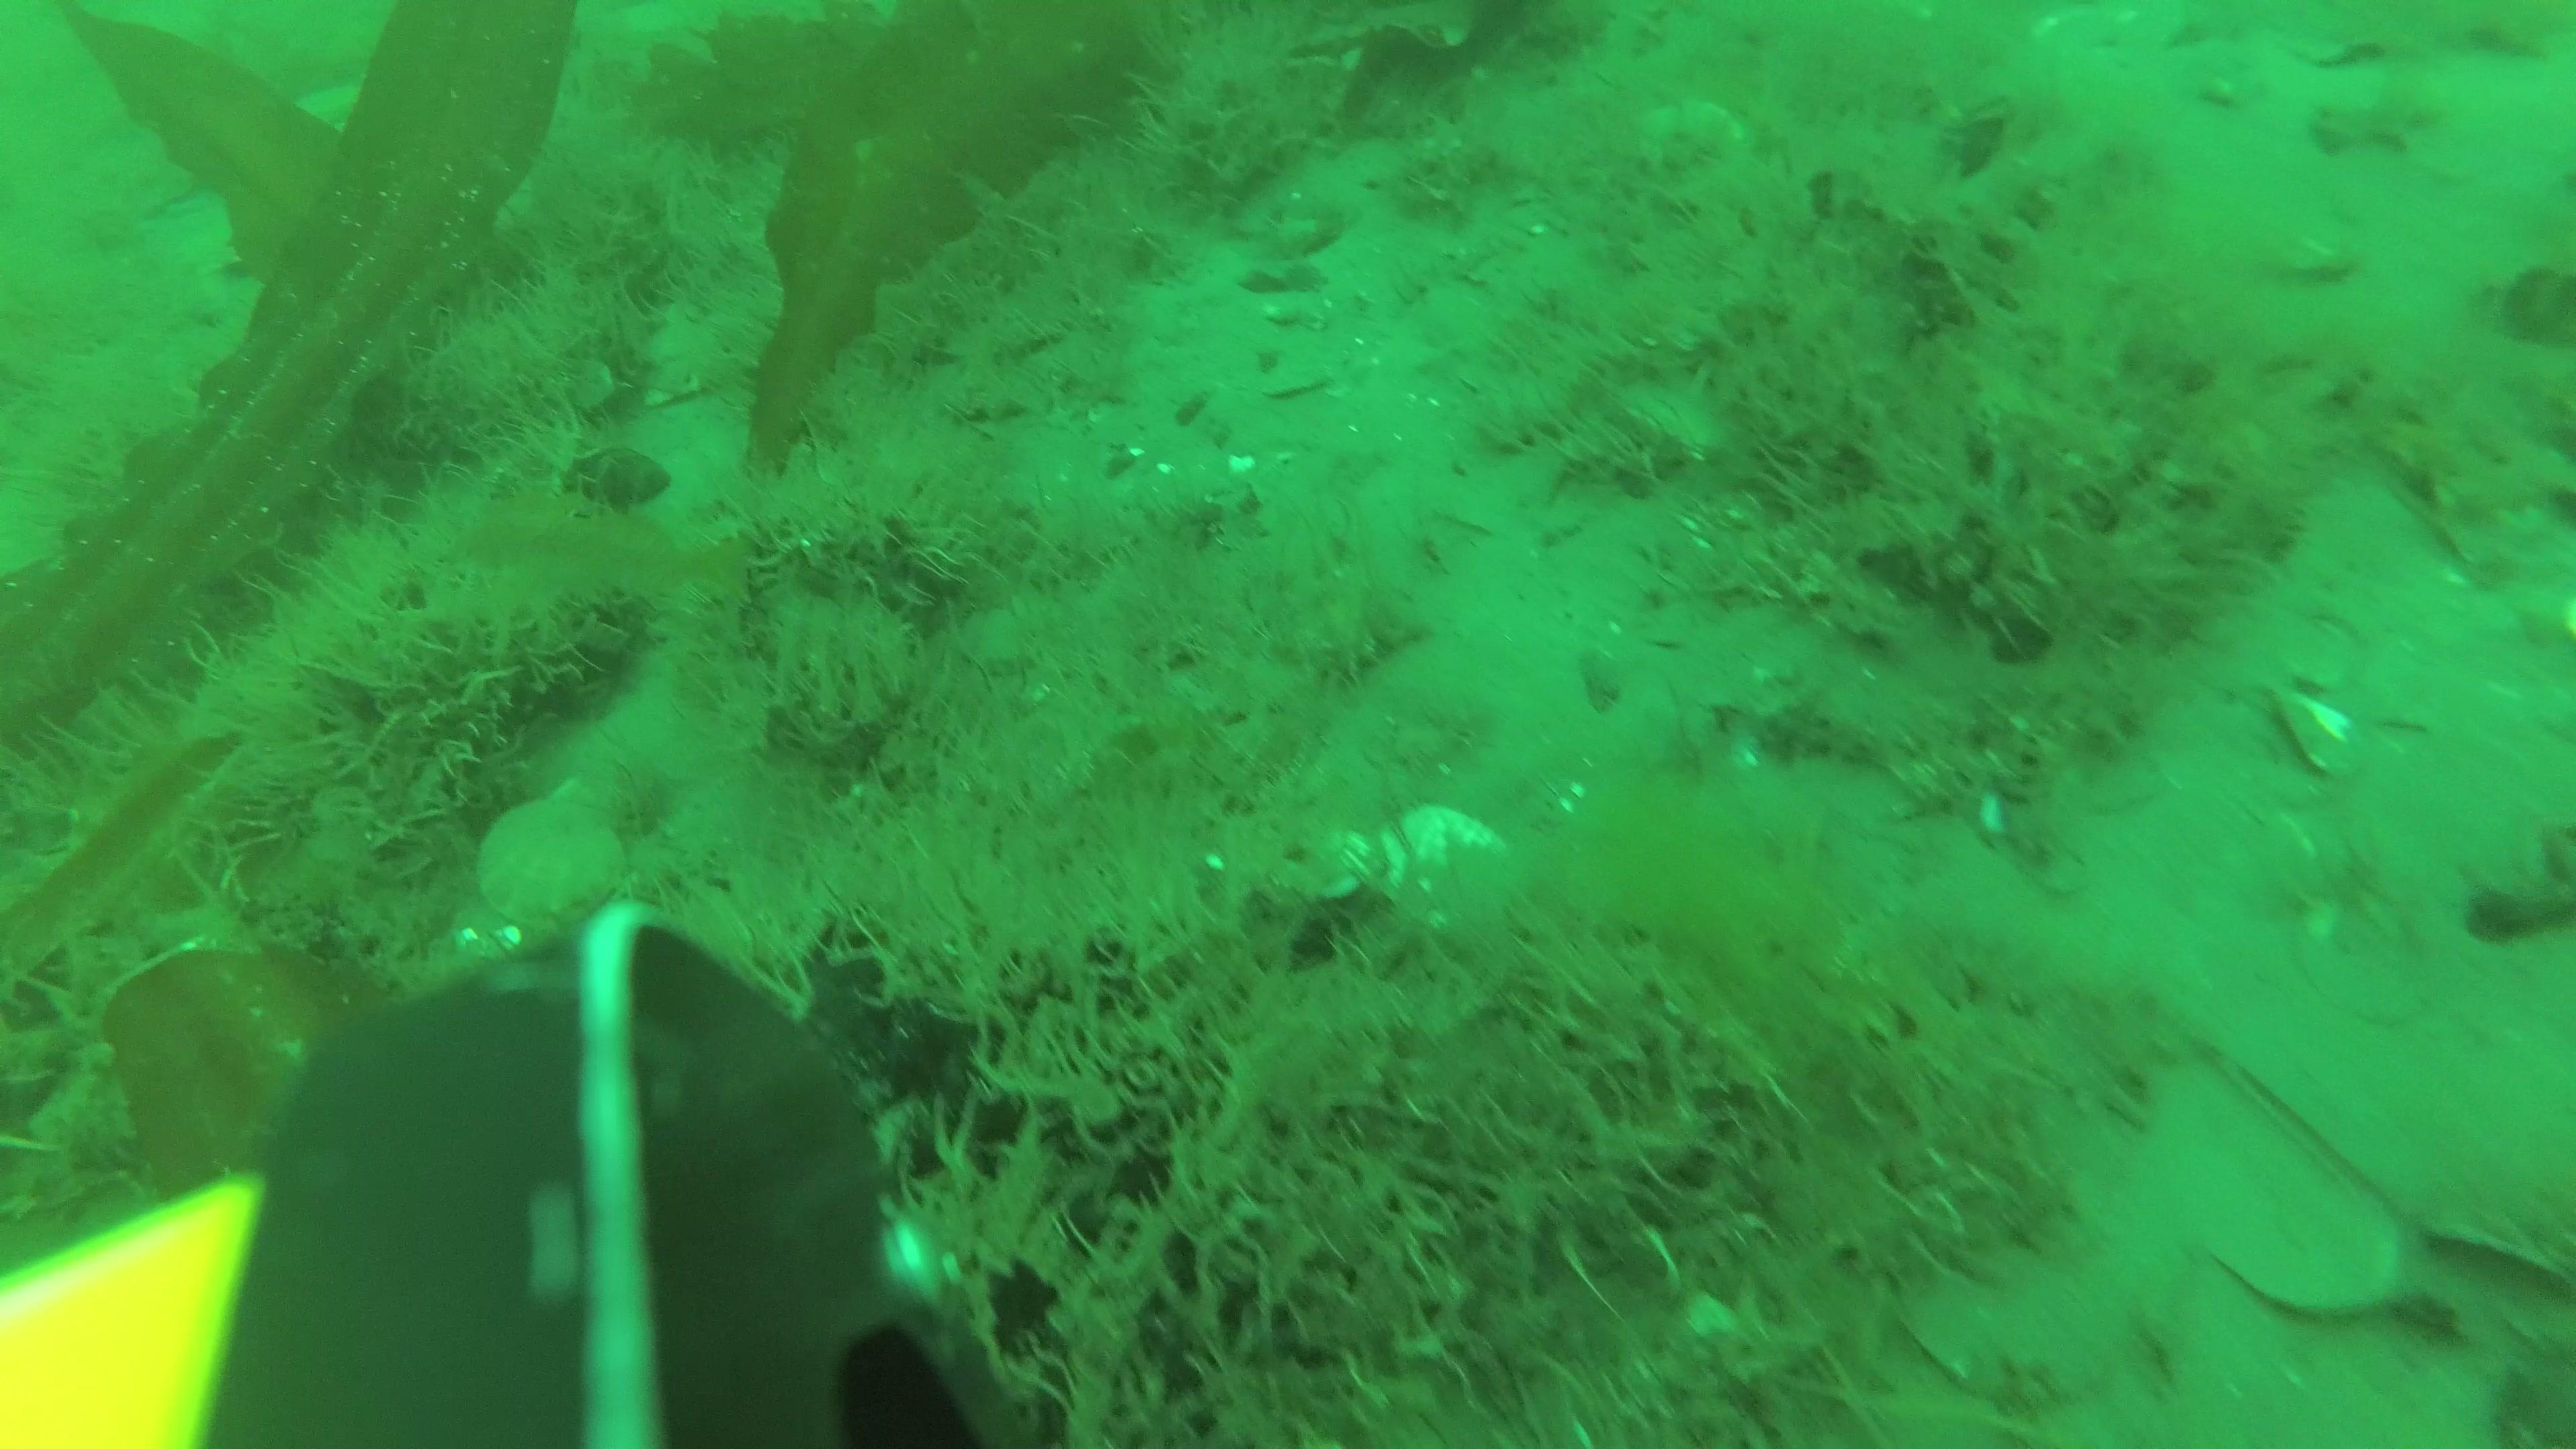scallop: (1345, 796, 1513, 924), (483, 780, 619, 918)
